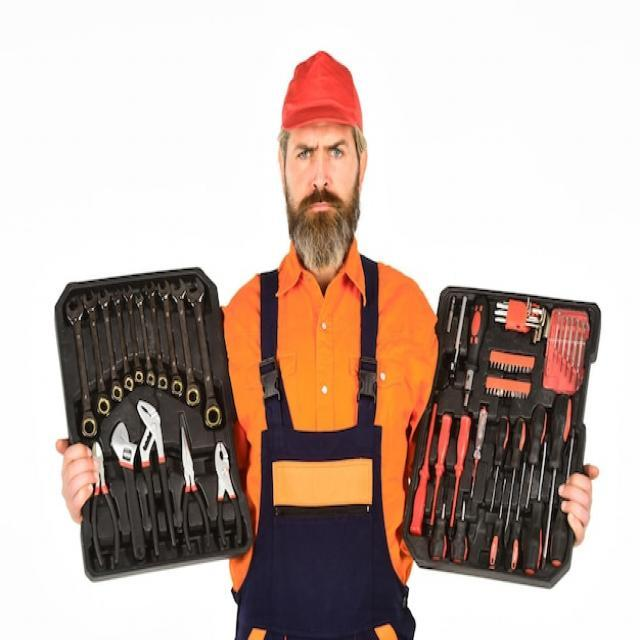screwdriver: (542, 390, 576, 565), (519, 436, 553, 577), (550, 426, 580, 574), (501, 458, 529, 574), (525, 403, 550, 512), (488, 412, 512, 512), (502, 407, 521, 533), (483, 476, 508, 570), (468, 402, 490, 503), (451, 496, 474, 568), (426, 499, 448, 564)
